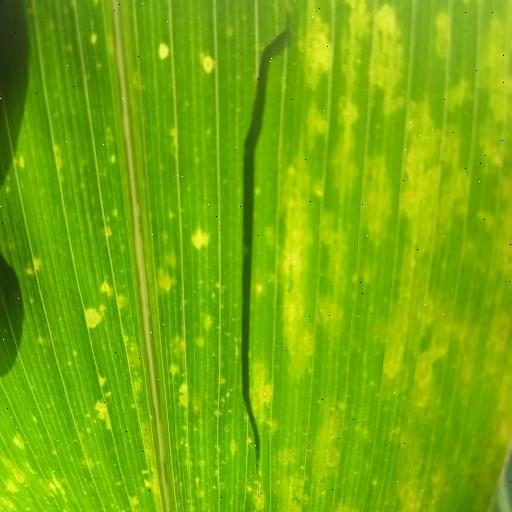Corn_Brown_Spots: (4, 7, 512, 512)
